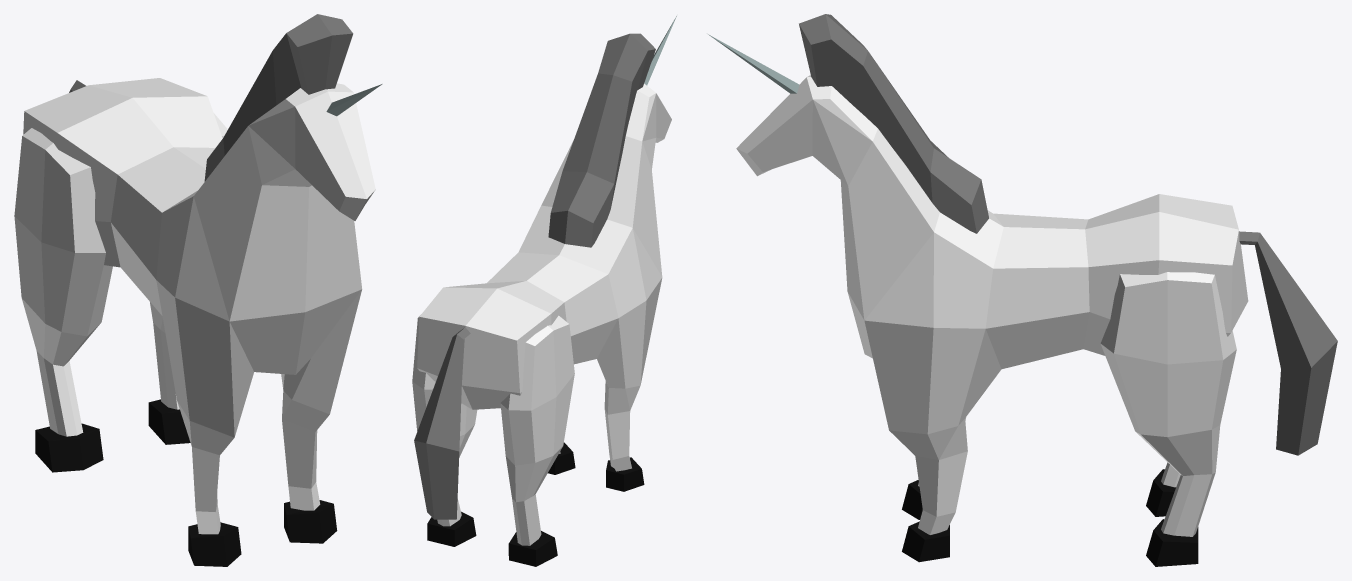
Rendered from unicorn.glb.
3 renders of one model, left to right at view 1: azimuth 30°, elevation 25°; view 2: azimuth 150°, elevation 25°; view 3: azimuth 270°, elevation 25°, orthographic. The views are drawn at different scales.
Visible parts, largest first — view 1: Unicorn; view 2: Unicorn; view 3: Unicorn.
Part boxes in pixels (left/top/right/bottom): Unicorn: left=14, top=14, right=382, bottom=566; Unicorn: left=412, top=16, right=676, bottom=566; Unicorn: left=708, top=14, right=1337, bottom=566.
Bounding box in the file's own units: 0.7279 × 2.3 × 2.54.
1 material, 1 textured.
